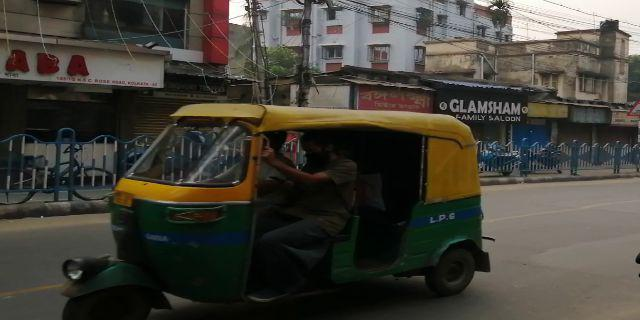Autorickshaw: (67, 99, 496, 308)
